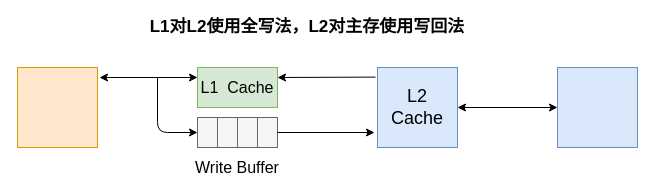
Image size: 655x194. Some labels were removed from this diagram. Each missing label, with the box of its shape:
CPU: (16, 66, 98, 148)
DRAM: (556, 66, 638, 148)
